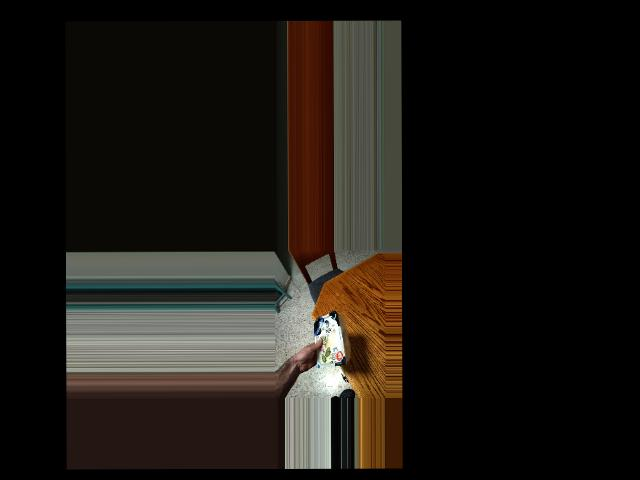cheese: (308, 314, 347, 365)
